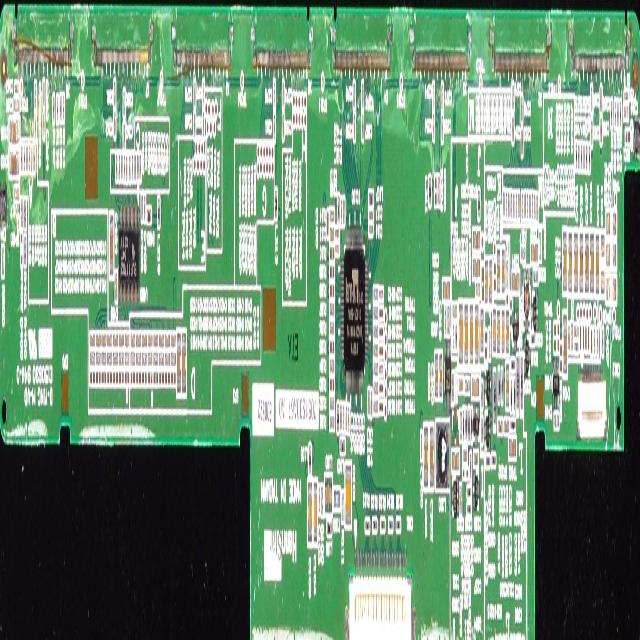Capacitor Jumper: (345, 461, 351, 527), (312, 479, 317, 546), (307, 478, 312, 543), (562, 228, 567, 290), (9, 119, 20, 145), (606, 242, 616, 270), (606, 275, 616, 303), (10, 150, 20, 177), (606, 211, 616, 237), (458, 303, 462, 364), (464, 303, 468, 364), (424, 426, 428, 487), (110, 218, 114, 278), (563, 314, 567, 374), (568, 231, 572, 290), (595, 234, 599, 293), (451, 448, 460, 474), (469, 306, 473, 364), (182, 334, 186, 392), (579, 232, 583, 288), (590, 237, 594, 291), (472, 228, 480, 253), (434, 352, 438, 400), (492, 308, 496, 353), (430, 425, 433, 485), (574, 234, 577, 292), (475, 306, 478, 362), (177, 334, 180, 390), (585, 234, 588, 289), (601, 237, 604, 291), (472, 258, 480, 278), (442, 280, 449, 302), (530, 244, 538, 262), (439, 352, 442, 399), (480, 307, 483, 353), (506, 363, 509, 408), (497, 248, 500, 292), (508, 442, 516, 458), (512, 270, 519, 288), (485, 258, 488, 300), (496, 310, 499, 351), (501, 310, 504, 350), (489, 260, 492, 299), (506, 311, 509, 350), (272, 82, 276, 110), (164, 331, 170, 349), (147, 330, 153, 347), (472, 379, 478, 396), (553, 414, 559, 431), (623, 105, 629, 122), (14, 185, 19, 205), (118, 331, 124, 347), (141, 332, 147, 348), (158, 332, 164, 348), (135, 333, 141, 349), (459, 409, 462, 441), (459, 485, 462, 517), (42, 110, 45, 142), (480, 379, 483, 410), (170, 330, 175, 348), (193, 80, 196, 110), (273, 110, 276, 140), (344, 403, 347, 432), (503, 419, 509, 433), (361, 83, 364, 111), (432, 83, 435, 111), (502, 250, 504, 291), (143, 195, 146, 222), (153, 331, 158, 347), (193, 110, 196, 136), (329, 228, 334, 243), (90, 334, 95, 348), (458, 379, 463, 393), (462, 448, 467, 462), (14, 82, 19, 96), (554, 322, 556, 356), (318, 482, 320, 516), (282, 109, 284, 142), (131, 331, 135, 347), (368, 386, 370, 418), (342, 195, 344, 226), (326, 208, 328, 238), (101, 332, 106, 344), (113, 331, 117, 346), (125, 331, 129, 346), (107, 334, 112, 346), (574, 340, 578, 355), (340, 403, 342, 433), (498, 418, 502, 433), (420, 430, 422, 460), (282, 80, 284, 110), (202, 80, 204, 110), (34, 82, 36, 112), (590, 86, 592, 116), (141, 194, 143, 223), (340, 197, 342, 226), (579, 324, 581, 353), (370, 389, 372, 418), (512, 83, 514, 112), (354, 110, 356, 139), (362, 112, 364, 141), (590, 119, 592, 148), (582, 324, 584, 352), (588, 324, 590, 352), (465, 378, 469, 392), (342, 403, 344, 431), (353, 80, 355, 108), (14, 98, 18, 112), (600, 116, 602, 144), (115, 273, 117, 300), (568, 324, 570, 351), (584, 326, 586, 353), (594, 327, 596, 354), (600, 86, 602, 113), (521, 191, 523, 217), (369, 208, 373, 221), (570, 324, 572, 350), (596, 329, 598, 355), (602, 330, 604, 356), (348, 406, 350, 432), (43, 80, 45, 106), (441, 84, 443, 110), (521, 95, 523, 121), (34, 112, 36, 138), (441, 116, 443, 142), (118, 155, 120, 180), (134, 155, 136, 180), (532, 195, 534, 220), (452, 306, 457, 316), (505, 194, 507, 218), (515, 194, 517, 218), (536, 195, 538, 219), (524, 196, 526, 220), (379, 288, 383, 300), (379, 307, 383, 319), (96, 334, 100, 346), (590, 328, 592, 352), (379, 346, 383, 358), (379, 362, 383, 374), (379, 382, 383, 394), (379, 400, 383, 412), (123, 92, 125, 116), (114, 114, 116, 138), (432, 115, 434, 139), (521, 131, 523, 155), (510, 194, 512, 217), (202, 113, 204, 136), (131, 155, 133, 177), (379, 327, 383, 338), (512, 118, 514, 140), (123, 125, 125, 147), (126, 158, 128, 179), (528, 195, 530, 216), (526, 196, 528, 217), (368, 224, 372, 234), (335, 227, 339, 237), (335, 242, 339, 252), (114, 79, 115, 108), (534, 195, 535, 222), (453, 323, 454, 350), (137, 153, 138, 178), (124, 155, 125, 180), (129, 155, 130, 179), (116, 155, 117, 179), (121, 155, 122, 179), (503, 191, 504, 215), (518, 194, 519, 216), (508, 194, 509, 215), (513, 195, 514, 216), (140, 155, 140, 181)
Connector: (349, 554, 411, 640), (577, 380, 606, 446)
IC: (341, 230, 368, 390), (119, 207, 139, 303), (445, 344, 450, 410), (552, 362, 559, 406)
Resistor Jumper: (118, 349, 124, 367), (124, 351, 130, 369), (100, 368, 106, 386), (577, 141, 580, 175), (23, 234, 26, 268), (90, 349, 95, 369), (113, 366, 118, 386), (130, 368, 135, 388), (437, 173, 440, 206), (56, 92, 59, 125), (59, 93, 62, 126), (329, 245, 335, 261), (141, 350, 147, 366), (158, 352, 164, 368), (147, 368, 153, 384), (118, 370, 124, 386), (170, 370, 176, 386), (619, 98, 622, 129), (112, 352, 118, 367), (136, 369, 141, 387), (52, 92, 55, 122), (447, 306, 450, 335), (469, 452, 472, 481), (532, 268, 538, 282), (89, 370, 95, 384), (466, 485, 472, 499), (610, 100, 613, 128), (329, 303, 334, 319), (107, 350, 112, 366), (165, 350, 170, 366), (124, 369, 129, 385), (625, 130, 630, 146), (520, 248, 526, 261), (364, 518, 370, 531), (62, 95, 65, 121), (108, 366, 112, 385), (574, 322, 579, 337), (373, 343, 378, 358), (142, 369, 147, 384), (329, 377, 334, 392), (152, 352, 158, 364), (96, 349, 100, 367), (148, 350, 152, 368), (330, 414, 334, 432), (583, 139, 585, 174), (373, 287, 378, 301), (329, 322, 334, 336), (373, 324, 378, 338), (101, 352, 106, 366), (170, 352, 175, 366), (373, 362, 378, 376), (159, 368, 164, 382), (165, 370, 170, 384), (24, 197, 26, 231), (330, 208, 334, 225), (2, 246, 4, 280), (96, 370, 100, 387), (480, 414, 482, 448), (510, 357, 515, 370), (373, 382, 378, 395), (330, 264, 334, 280), (154, 368, 158, 384), (330, 396, 334, 412), (486, 452, 490, 468), (588, 144, 590, 175), (434, 173, 436, 204), (20, 198, 22, 229), (539, 231, 541, 262), (575, 141, 577, 171), (580, 142, 582, 172), (586, 142, 588, 172), (373, 307, 378, 319), (444, 306, 446, 336), (488, 329, 490, 359), (130, 352, 135, 364), (136, 353, 141, 365), (374, 399, 378, 414), (491, 455, 496, 467), (321, 485, 323, 515), (341, 491, 343, 521), (617, 98, 619, 128), (506, 261, 508, 290), (614, 98, 616, 127), (23, 146, 25, 174), (494, 264, 496, 292), (330, 283, 334, 297), (557, 324, 559, 352), (330, 357, 334, 371), (467, 502, 471, 516), (33, 143, 35, 170), (20, 145, 22, 172), (484, 330, 486, 357), (26, 146, 28, 172), (455, 322, 457, 348), (560, 346, 562, 372), (372, 518, 376, 531), (388, 520, 393, 530), (28, 146, 30, 170), (330, 342, 334, 352), (396, 519, 400, 529), (380, 521, 384, 530), (31, 146, 32, 169)
Transistor: (530, 294, 538, 334), (512, 313, 519, 351), (452, 479, 458, 520), (473, 406, 479, 446), (473, 470, 479, 510), (484, 372, 491, 404), (524, 338, 530, 374), (484, 415, 490, 451)
